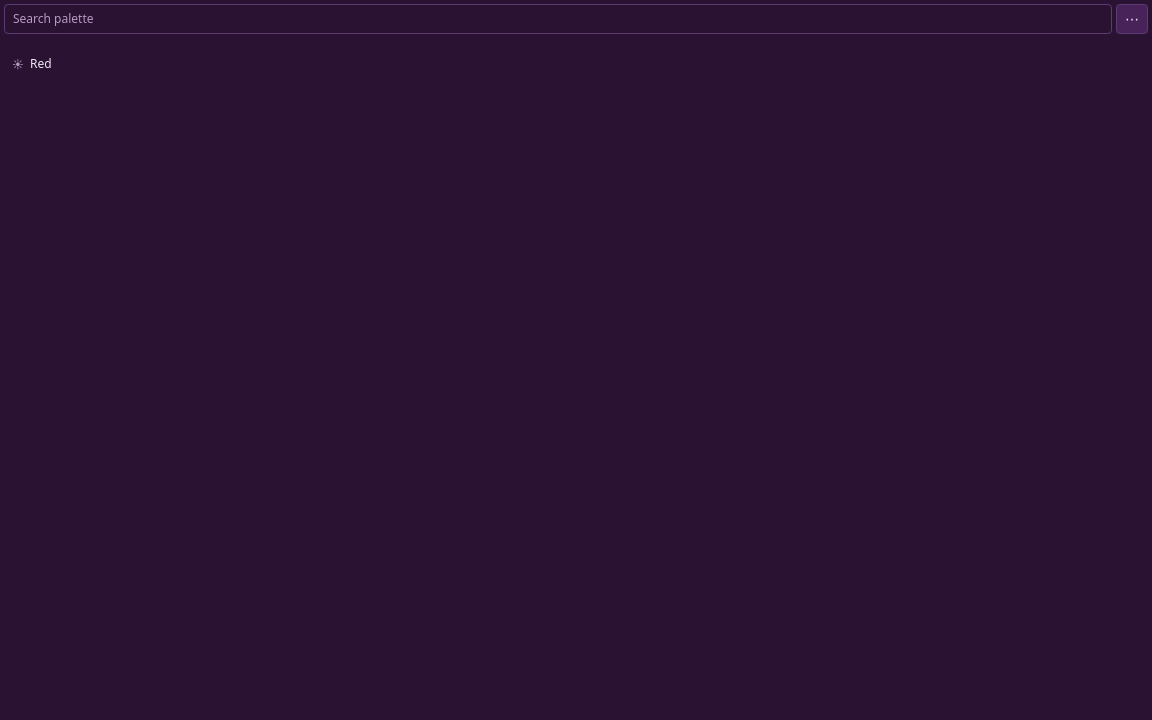
Preset palette menus close on outside click, every time › closes the context menu on outside click after a header menu has opened and closed
Later steps or results of the test are not shown.
Click the button named "Preset palette menu": (1132, 19) [1116,4,1148,34]
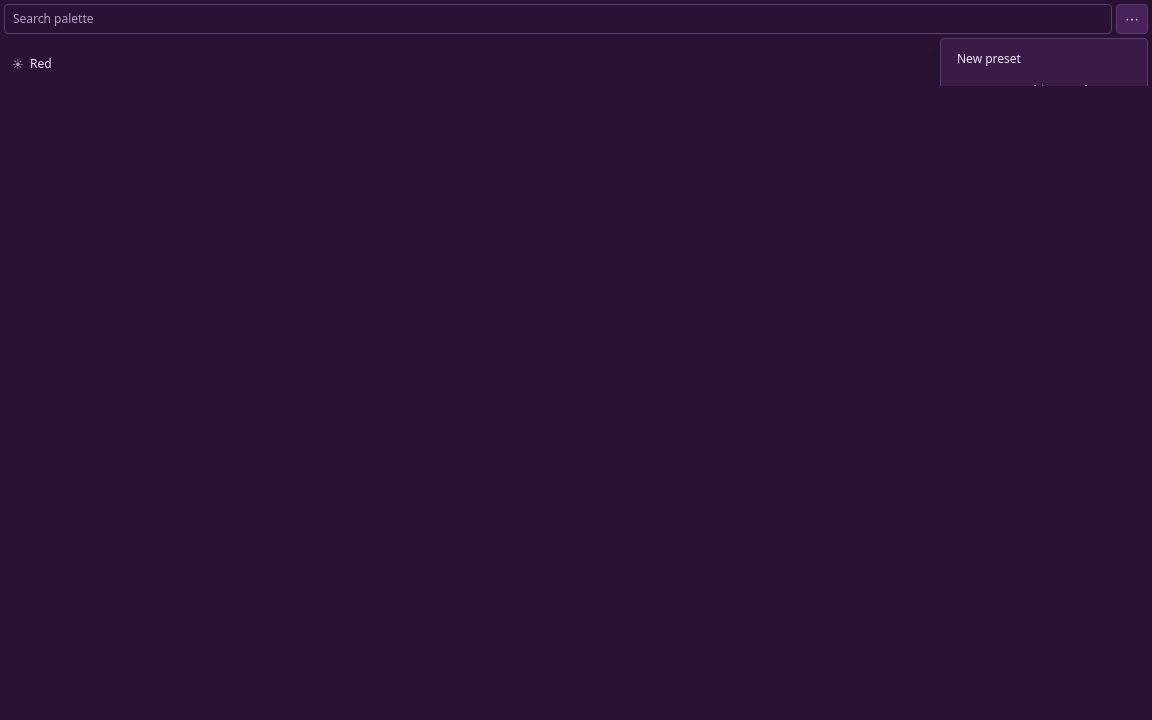
Press the mouse on the element that starts with "New preset": (576, 360) [0,0,1151,719]
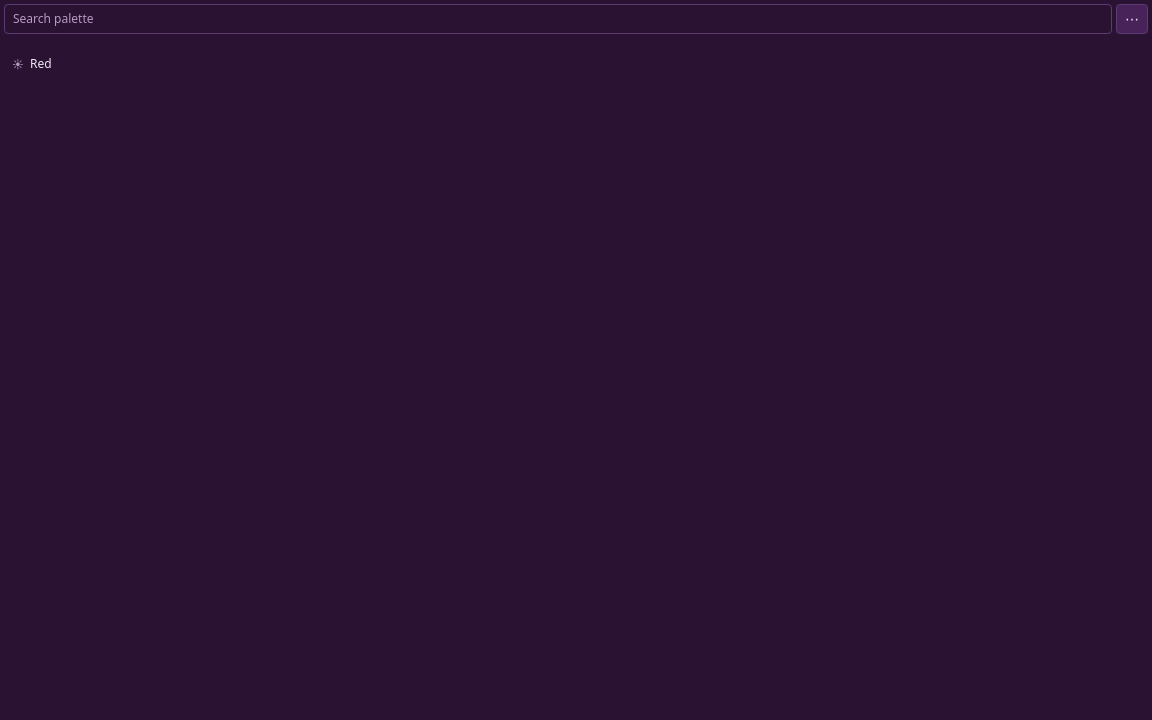
Right-click the list item "☀ Red": (576, 64) [4,50,1148,78]
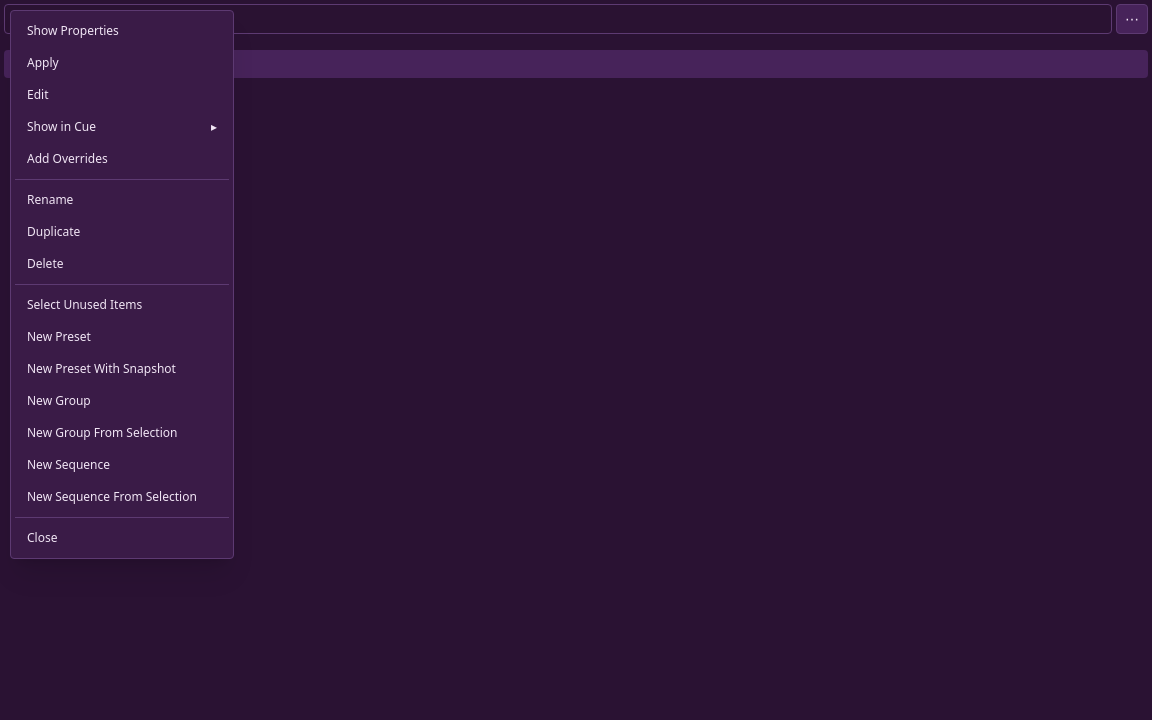
Expected: the menu named "Preset palette actions" is shown, [10,10,234,559]
